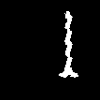half_double_crochet: (59, 11, 77, 77)
